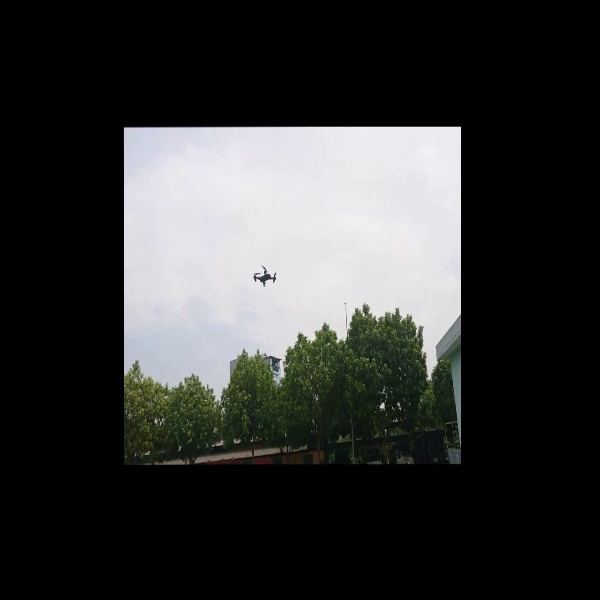drone: (251, 260, 279, 290)
